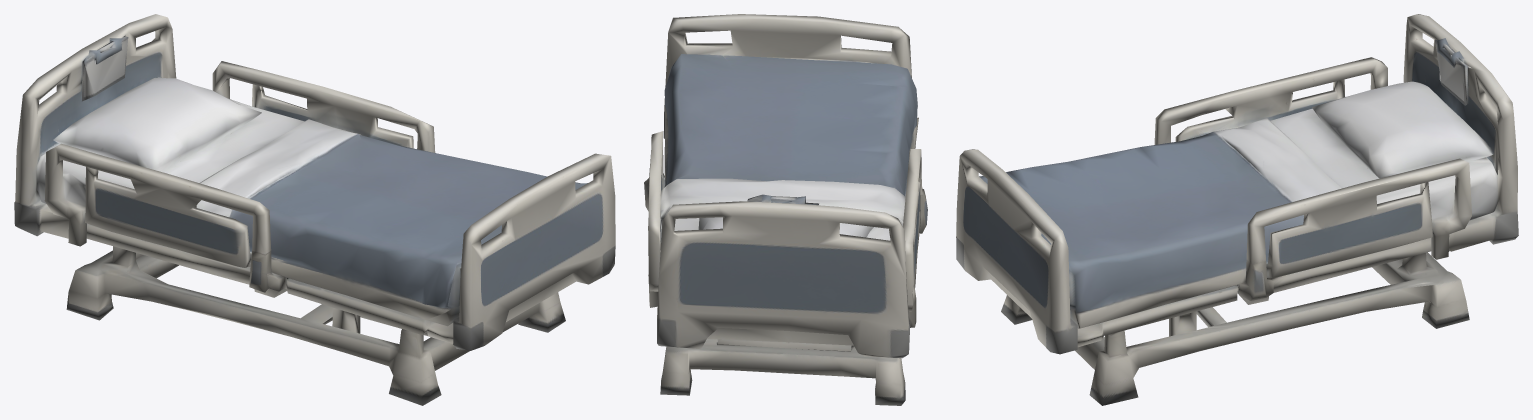
File: ENV_ALL_013_v001_RAW.glb
The picture shows the model from 3 angles, left to right: view 1: azimuth 30°, elevation 25°; view 2: azimuth 150°, elevation 25°; view 3: azimuth 270°, elevation 25°; orthographic projection.
Visible parts, largest first — view 1: tripo_node_d43e50e0-aea8-4195-a6fb-d945a1f54cec; view 2: tripo_node_d43e50e0-aea8-4195-a6fb-d945a1f54cec; view 3: tripo_node_d43e50e0-aea8-4195-a6fb-d945a1f54cec.
Part boxes in pixels (<box>): tripo_node_d43e50e0-aea8-4195-a6fb-d945a1f54cec: <box>14,14,615,405</box>; tripo_node_d43e50e0-aea8-4195-a6fb-d945a1f54cec: <box>644,14,927,405</box>; tripo_node_d43e50e0-aea8-4195-a6fb-d945a1f54cec: <box>956,14,1518,405</box>.
Size of the model in its own units: 0.8476 by 0.4241 by 0.9803.
Materials: 1 (1 with a texture image).
